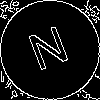N: (25, 25, 75, 81)
